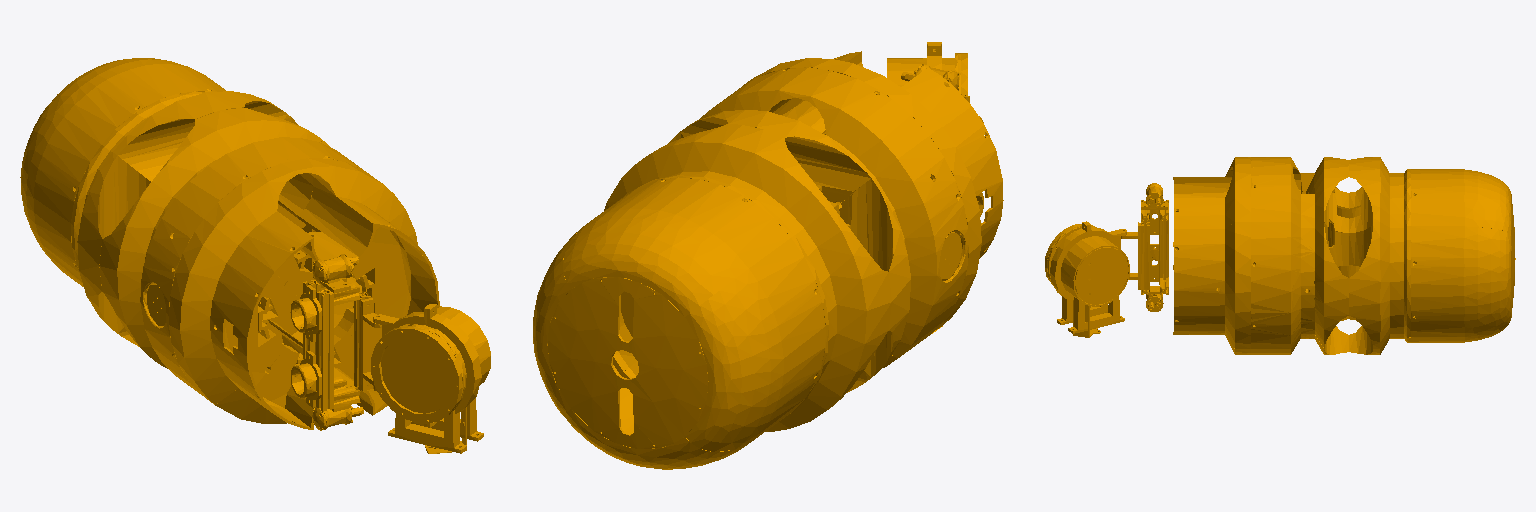
robot.urdf — multipleshapes:
<?xml version="1.0"?>
<robot name="multipleshapes">
  <link name="base_link">
    <visual>
      <origin xyz="0 0 0" rpy="0 0 0"/>
      <geometry>
        <mesh filename="package://data/robots/PKRC/meshes/PKRC_robot.obj" scale="1.0 1.0 1.0"/>
      </geometry>
      <!-- <material name="Gray">
        <texture/>
      </material> -->
    </visual>
  </link>
</robot>

--- What the picture shows (computed from the rendered views, not written in the file) ---
3 views of the same robot in one strip: view 1: azimuth 30°, elevation 25°; view 2: azimuth 150°, elevation 25°; view 3: azimuth 270°, elevation 25° (orthographic).
Model multipleshapes with 1 links and 0 joints (none), rooted at base_link, posed all joints at 0.
Visible links, largest first — view 1: base_link; view 2: base_link; view 3: base_link.
Link boxes in pixels (x1,y1,x2,y2): base_link: (20, 58, 490, 453); base_link: (533, 42, 1003, 469); base_link: (1045, 157, 1515, 354).
Bounding box of the posed robot: 42.1 × 100 × 42.09 m (x, y, z).
1 mesh visuals loaded from 1 distinct referenced files (1 OBJ).
